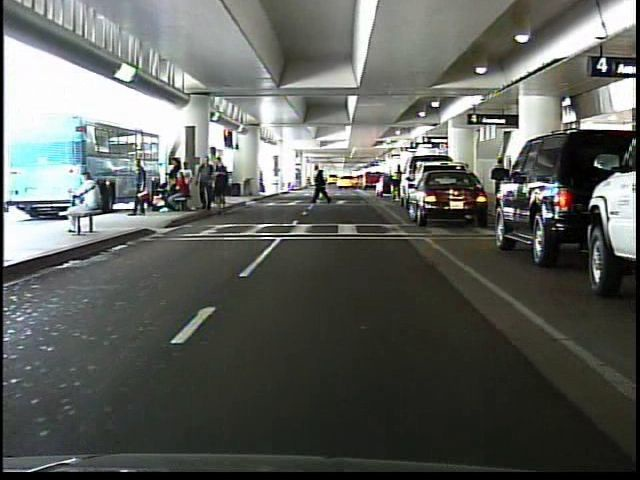person: (56, 164, 104, 238), (124, 152, 152, 220), (311, 163, 335, 208), (390, 162, 402, 201)
